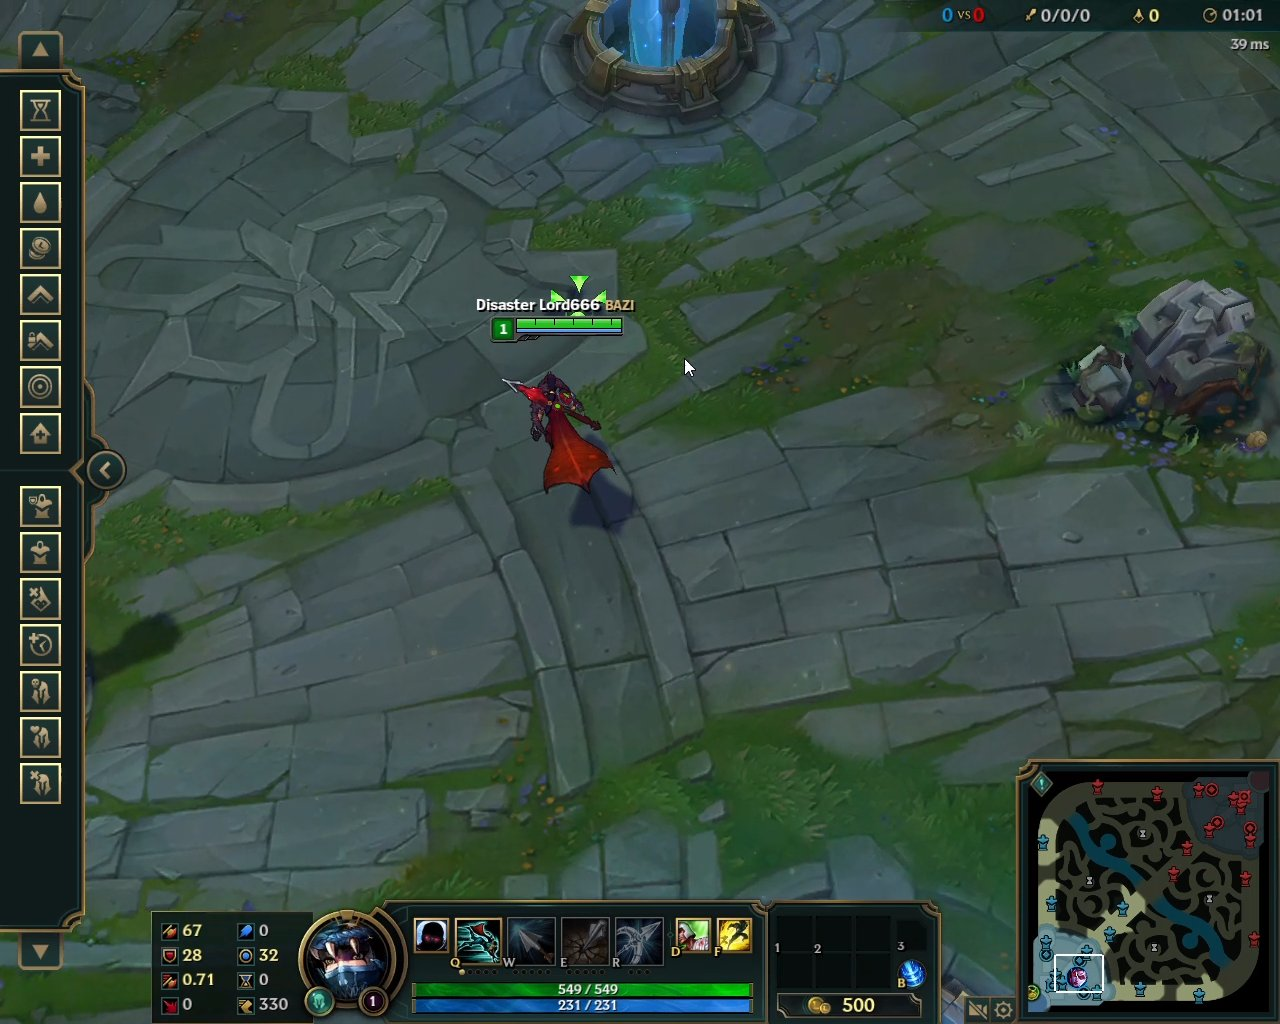Vayne: (490, 369, 626, 499)
